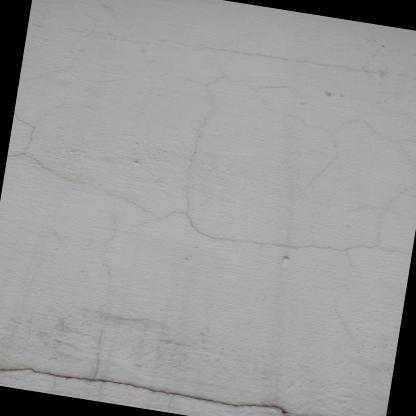crack: (0, 368, 302, 416)
